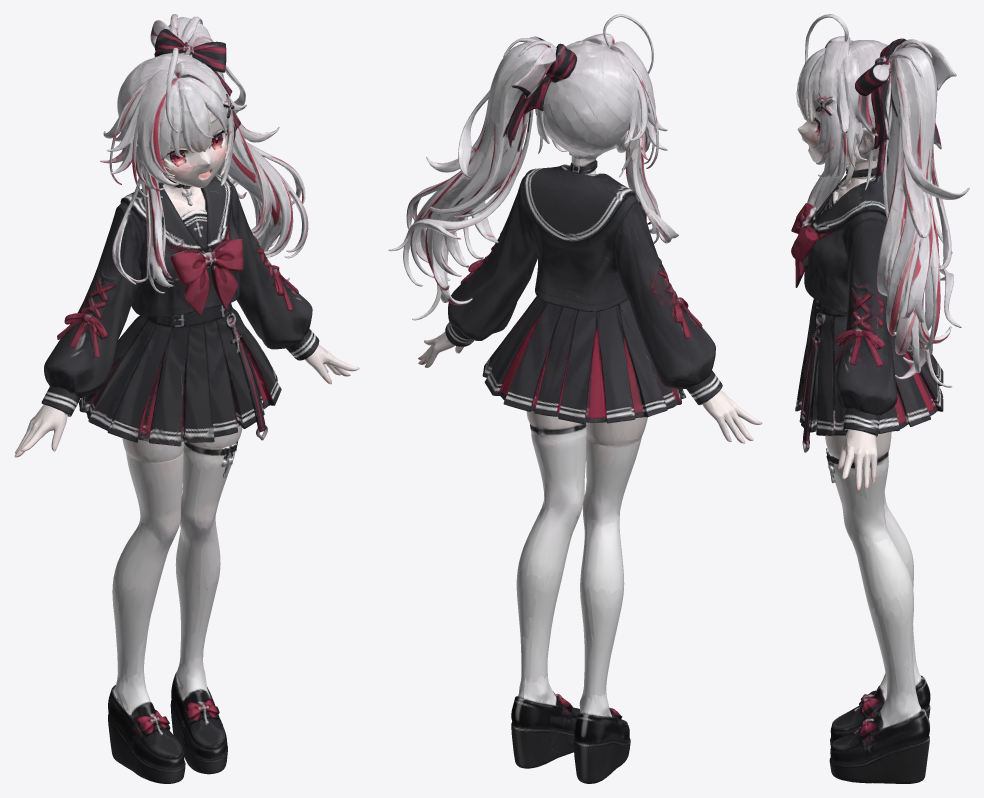
The model's file is Meshy_AI_Crimson_Ribbon_School_0923043550_texture.glb.
The picture shows the model from 3 angles, left to right: view 1: azimuth 30°, elevation 25°; view 2: azimuth 150°, elevation 25°; view 3: azimuth 270°, elevation 25°; orthographic projection.
Parts seen in each view (by area): view 1: Mesh_0; view 2: Mesh_0; view 3: Mesh_0.
Part boxes in pixels (box(x1,y1,x2,y2)): Mesh_0: box(14, 14, 359, 783); Mesh_0: box(388, 14, 762, 783); Mesh_0: box(791, 14, 969, 783).
Size of the model in its own units: 0.9175 by 1.9 by 0.4168.
1 material, 1 textured.
